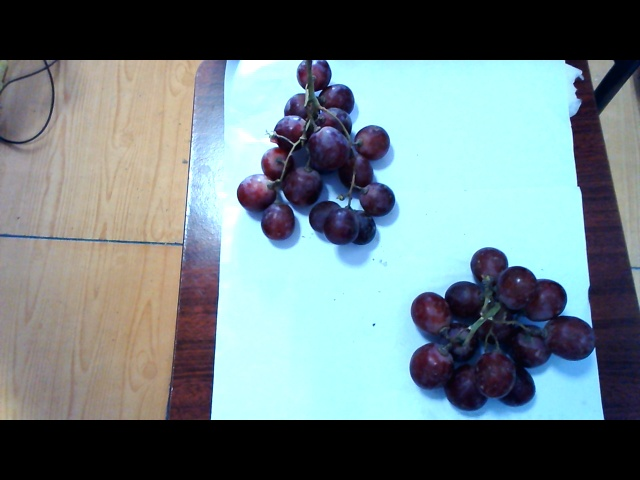grape: (396, 238, 595, 410), (244, 62, 394, 252)
